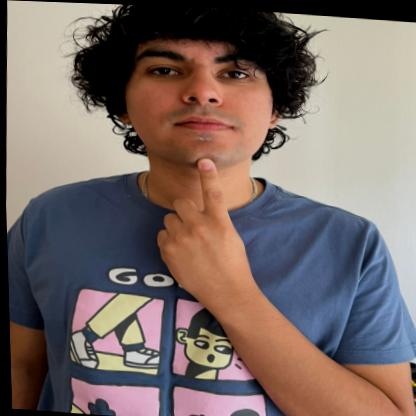T: (147, 146, 250, 298)
